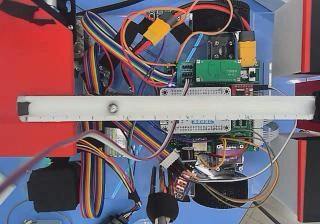ironball: (106, 102, 118, 113)
